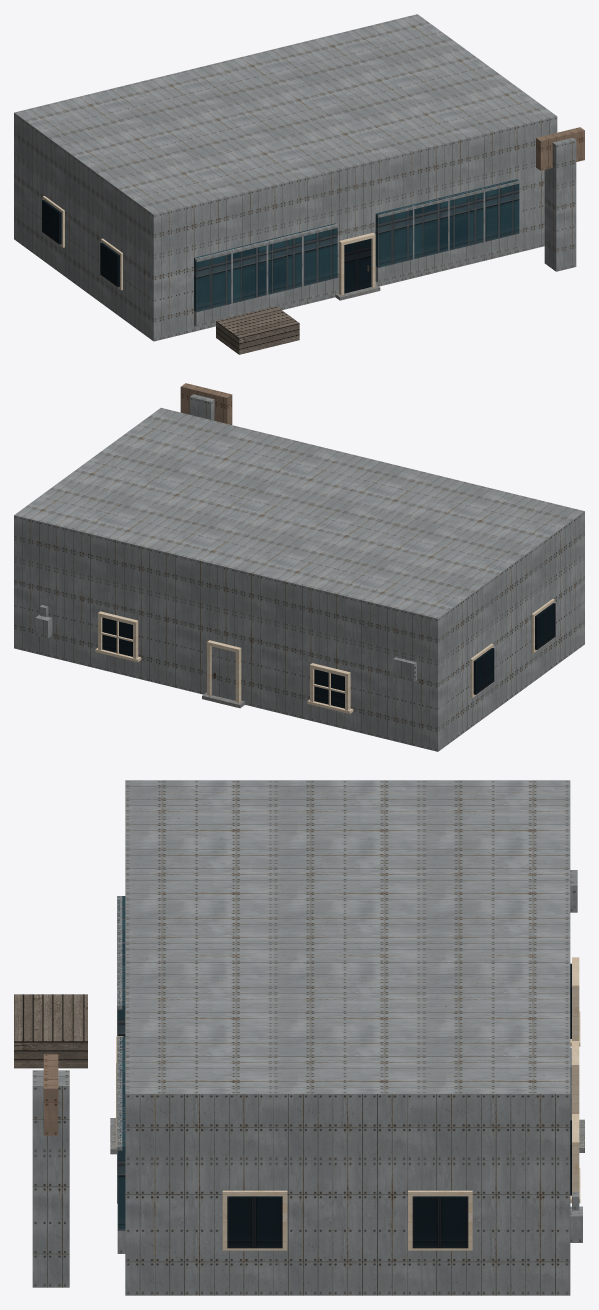
Rendered from neighborhood-diner_lod0.gltf.
The picture shows the model from 3 angles, top to bottom: view 1: azimuth 30°, elevation 25°; view 2: azimuth 150°, elevation 25°; view 3: azimuth 270°, elevation 25°; orthographic projection. The views are drawn at different scales.
Parts seen in each view (by area): view 1: neighborhood-diner_main, neighborhood-diner_fen_07-glass-curtain-blue_1, neighborhood-diner_fen_14-steel-panel_0, neighborhood-diner__neon_pylon, neighborhood-diner__tables, neighborhood-diner_fen_07-glass-curtain-blue_3_t, neighborhood-diner_fen_04-limestone_2, neighborhood-diner__neon_cabinet; view 2: neighborhood-diner_main, neighborhood-diner_fen_04-limestone_2, neighborhood-diner_fen_07-glass-curtain-blue_3_t, neighborhood-diner_fen_14-steel-panel_0, neighborhood-diner__neon_cabinet, neighborhood-diner__neon_pylon; view 3: neighborhood-diner_main, neighborhood-diner__neon_pylon, neighborhood-diner_fen_07-glass-curtain-blue_3_t, neighborhood-diner__tables, neighborhood-diner_fen_04-limestone_2, neighborhood-diner_fen_14-steel-panel_0, neighborhood-diner_fen_07-glass-curtain-blue_1, neighborhood-diner__neon_cabinet.
Part boxes in pixels (x1=…): neighborhood-diner_main: x1=14, y1=14, x2=557, y2=341; neighborhood-diner_fen_07-glass-curtain-blue_1: x1=194, y1=179, x2=519, y2=312; neighborhood-diner_fen_14-steel-panel_0: x1=194, y1=181, x2=519, y2=326; neighborhood-diner__neon_pylon: x1=544, y1=137, x2=576, y2=271; neighborhood-diner__tables: x1=216, y1=306, x2=299, y2=354; neighborhood-diner_fen_07-glass-curtain-blue_3_t: x1=42, y1=200, x2=371, y2=293; neighborhood-diner_fen_04-limestone_2: x1=42, y1=196, x2=375, y2=295; neighborhood-diner__neon_cabinet: x1=536, y1=127, x2=584, y2=170; neighborhood-diner_main: x1=14, y1=408, x2=584, y2=751; neighborhood-diner_fen_04-limestone_2: x1=95, y1=599, x2=554, y2=713; neighborhood-diner_fen_07-glass-curtain-blue_3_t: x1=102, y1=603, x2=555, y2=708; neighborhood-diner_fen_14-steel-panel_0: x1=35, y1=605, x2=416, y2=700; neighborhood-diner__neon_cabinet: x1=180, y1=383, x2=232, y2=424; neighborhood-diner__neon_pylon: x1=190, y1=394, x2=214, y2=420; neighborhood-diner_main: x1=125, y1=780, x2=570, y2=1295; neighborhood-diner__neon_pylon: x1=32, y1=1070, x2=69, y2=1287; neighborhood-diner_fen_07-glass-curtain-blue_3_t: x1=227, y1=963, x2=571, y2=1248; neighborhood-diner__tables: x1=14, y1=994, x2=87, y2=1068; neighborhood-diner_fen_04-limestone_2: x1=116, y1=957, x2=580, y2=1250; neighborhood-diner_fen_14-steel-panel_0: x1=117, y1=870, x2=582, y2=1253; neighborhood-diner_fen_07-glass-curtain-blue_1: x1=117, y1=896, x2=125, y2=1230; neighborhood-diner__neon_cabinet: x1=43, y1=1054, x2=58, y2=1135.
Bounding box in the file's own units: 20.4 × 6.2 × 15.4.
